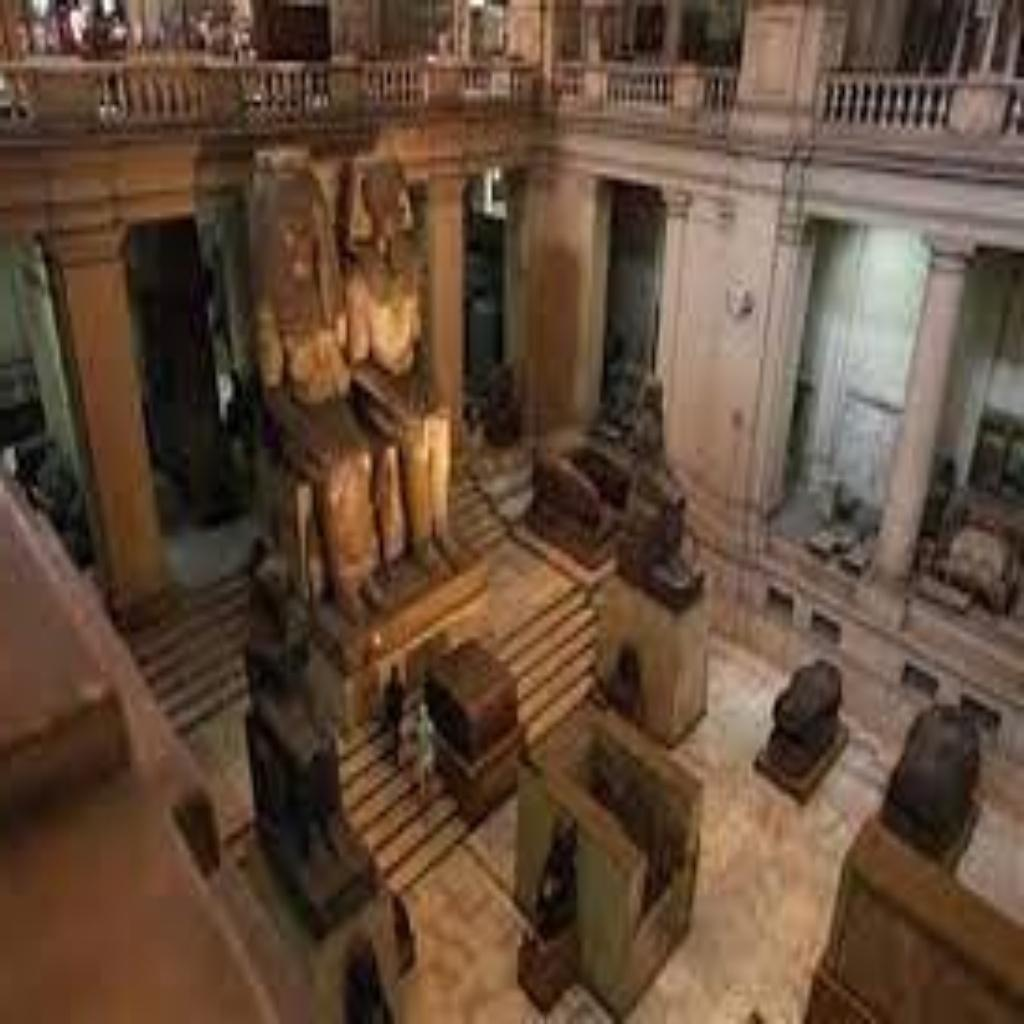Amenhotep III and Tiye: (254, 154, 456, 586)
